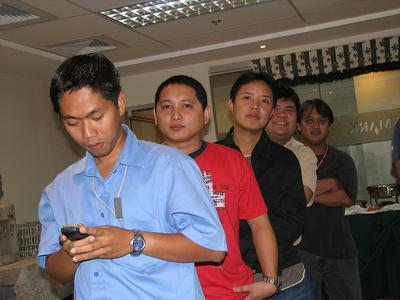person: (37, 54, 227, 300)
